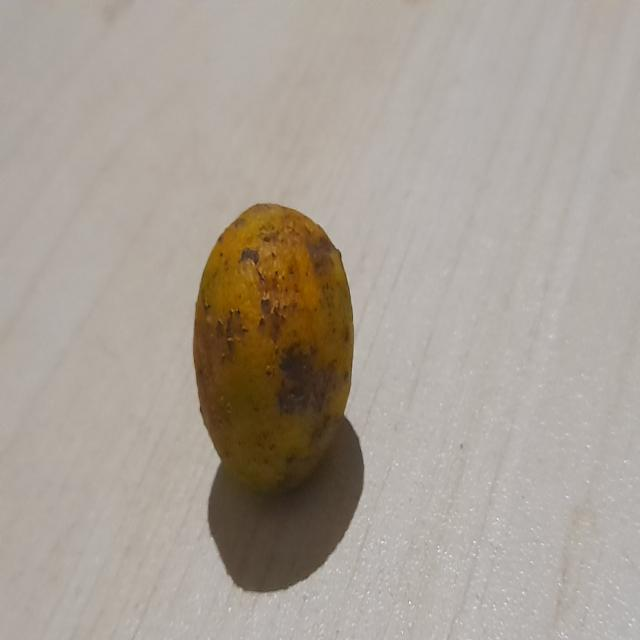black spot: (190, 198, 362, 507)
